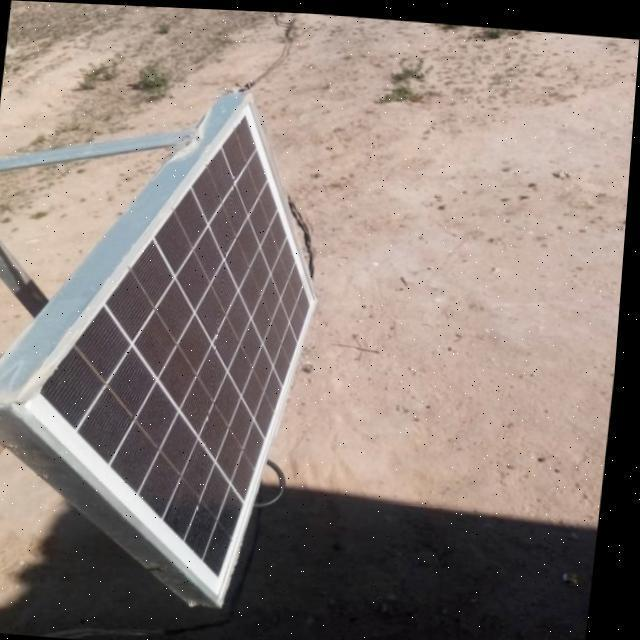Normal Solar Panel: (0, 81, 341, 604)
